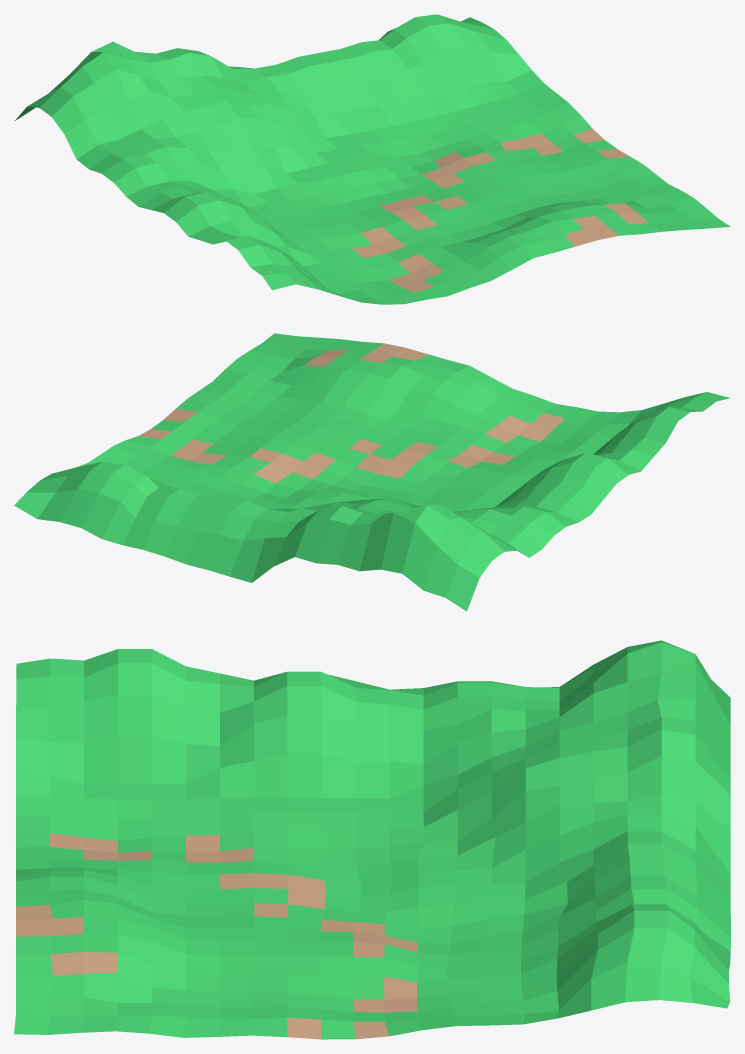
Rendered from Land1.fbx.
3 renders of one model, top to bottom at view 1: azimuth 30°, elevation 25°; view 2: azimuth 150°, elevation 25°; view 3: azimuth 270°, elevation 25°, orthographic. The views are drawn at different scales.
Visible parts, largest first — view 1: PlatformCenter.007; view 2: PlatformCenter.007; view 3: PlatformCenter.007.
Boxes of the visible parts, left/top/right/bottom form: PlatformCenter.007: left=15, top=14, right=730, bottom=304; PlatformCenter.007: left=14, top=333, right=729, bottom=611; PlatformCenter.007: left=14, top=640, right=730, bottom=1039.
Bounding box in the file's own units: 3545 × 765 × 3516.
